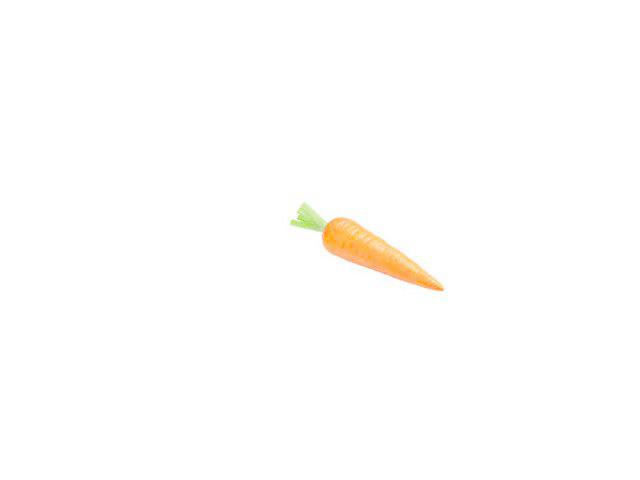carrot: (317, 213, 446, 294)
